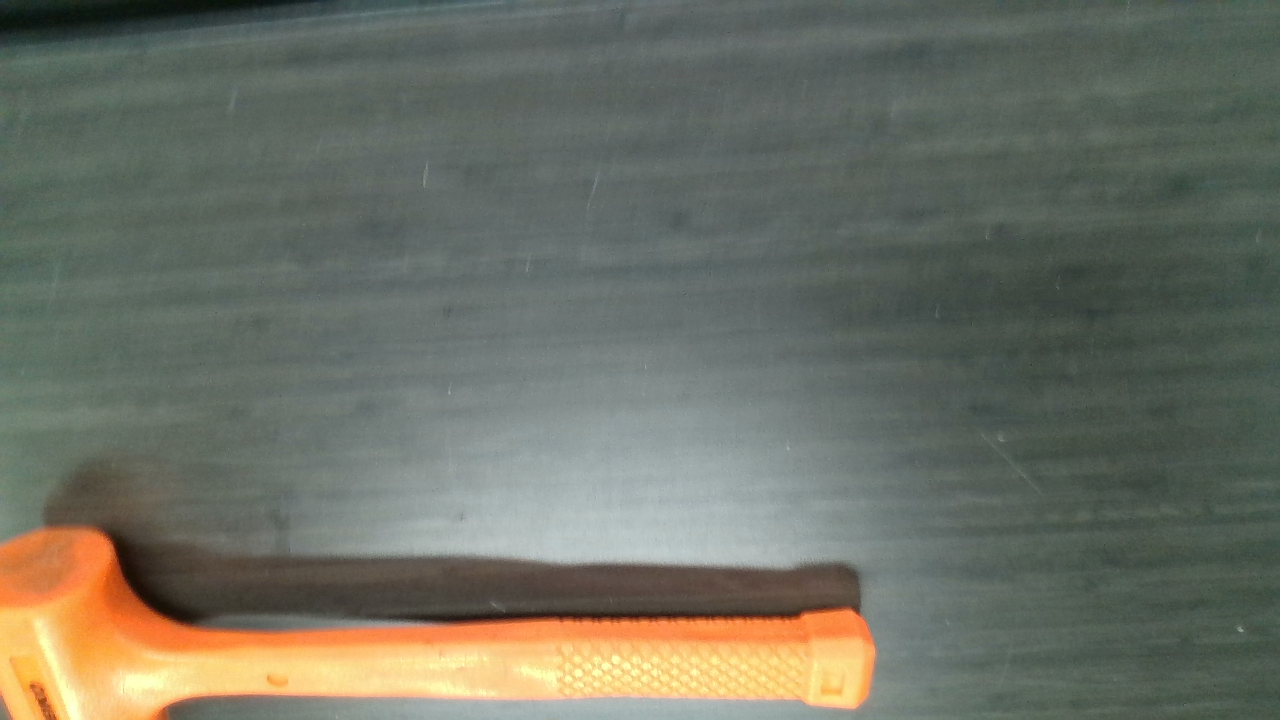Orange Hammer: (7, 527, 873, 716)
